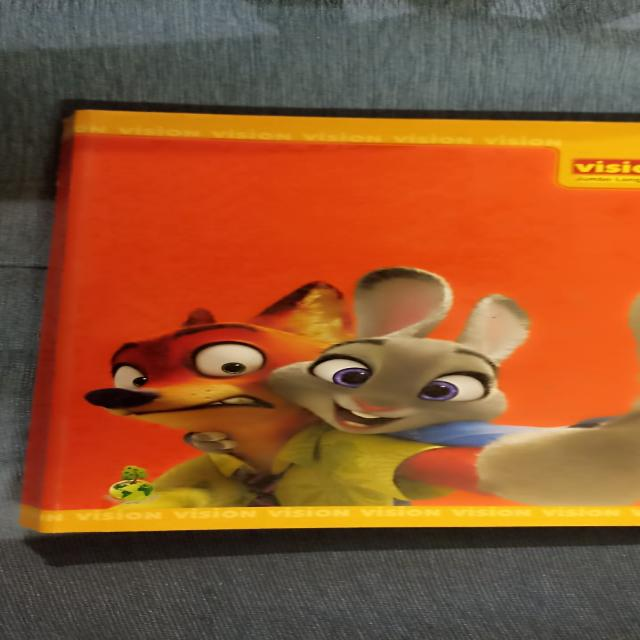book: (30, 101, 640, 539)
